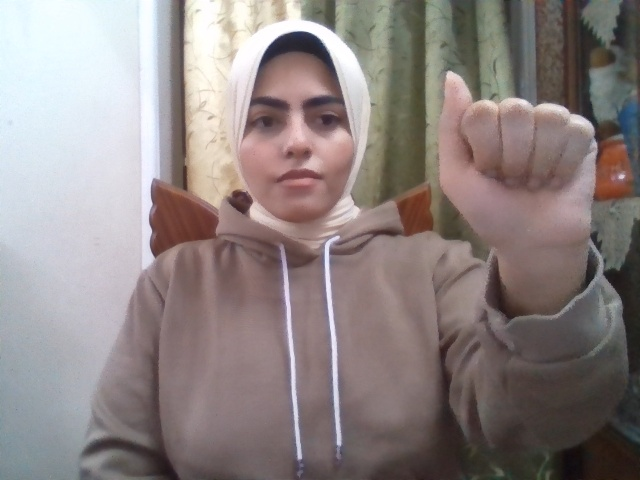A: (438, 73, 597, 252)
